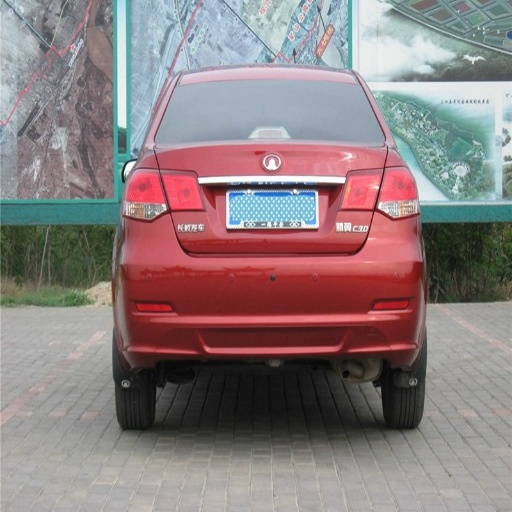back_bumper: (115, 211, 425, 368)
tailgate: (219, 130, 382, 256)
trunk: (125, 146, 255, 256)
